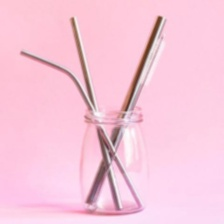drinking_straw: (67, 12, 125, 213)
glass: (75, 99, 154, 218)
